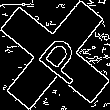P_NW: (23, 25, 87, 85)
